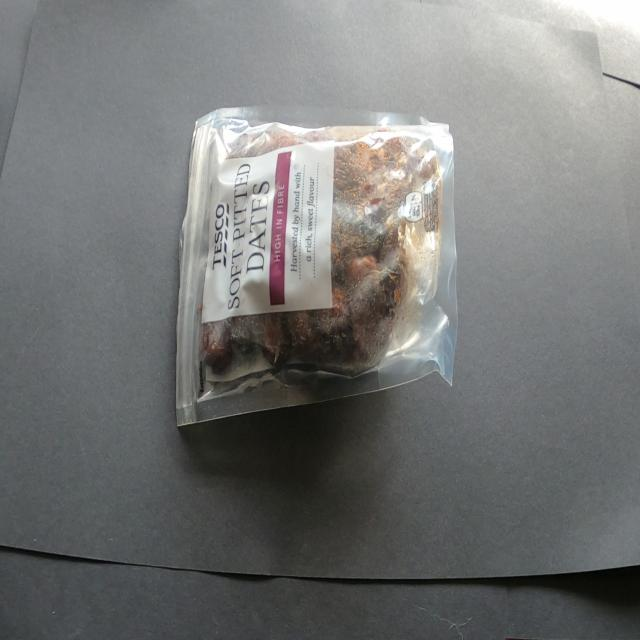Medjooldates: (167, 66, 483, 466)
